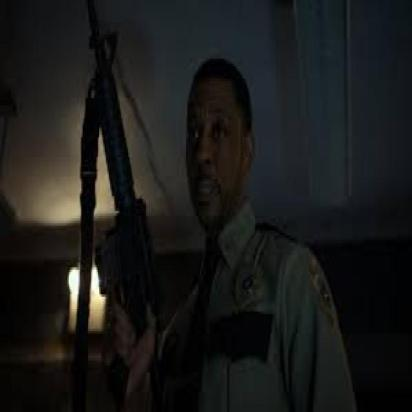Gun: (86, 0, 171, 412)
